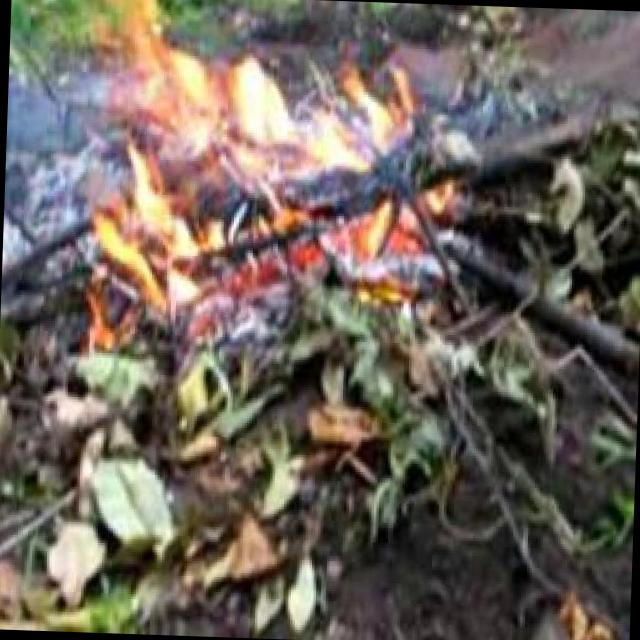Fire: (87, 0, 424, 308)
